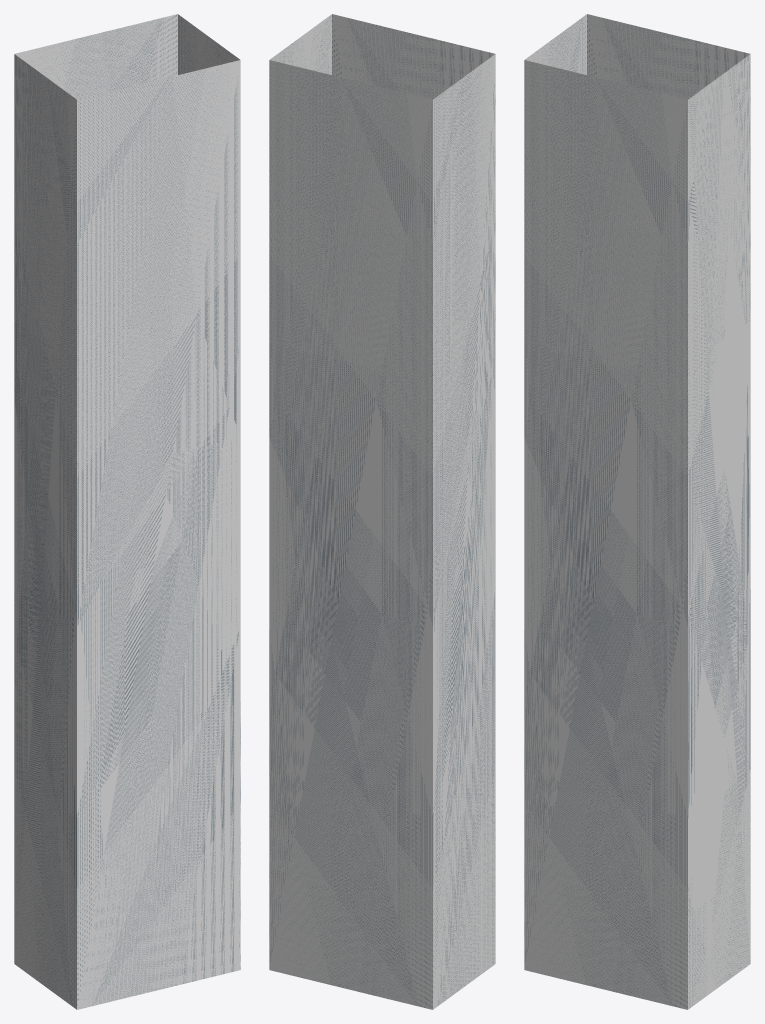
File: Column_ds_075x050x4.dae
The picture shows the model from 3 angles, left to right: view 1: azimuth 30°, elevation 25°; view 2: azimuth 150°, elevation 25°; view 3: azimuth 330°, elevation 25°; orthographic projection.
Parts seen in each view (by area): view 1: group_0; view 2: group_0; view 3: group_0.
Part boxes in pixels (x1,y1,x2,y2): group_0: (14,14,240,1009); group_0: (269,14,495,1009); group_0: (524,14,750,1009).
Size of the model in its own units: 29.61 by 19.69 by 157.
